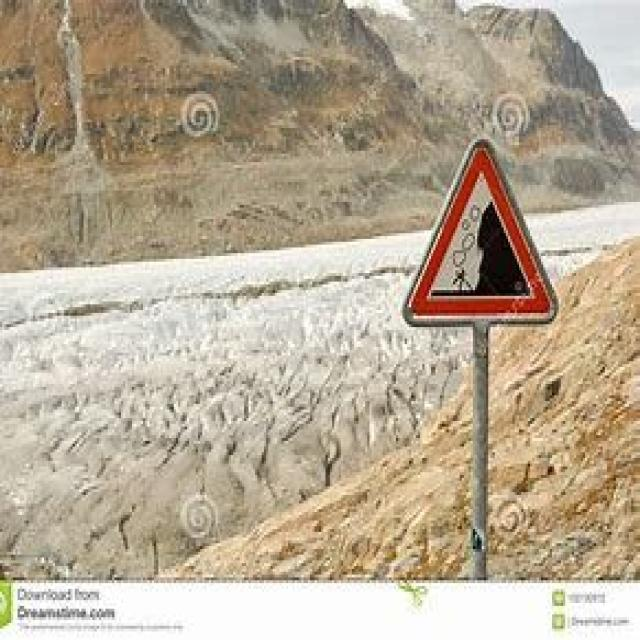FALLING_ROCKS: (394, 132, 558, 325)
